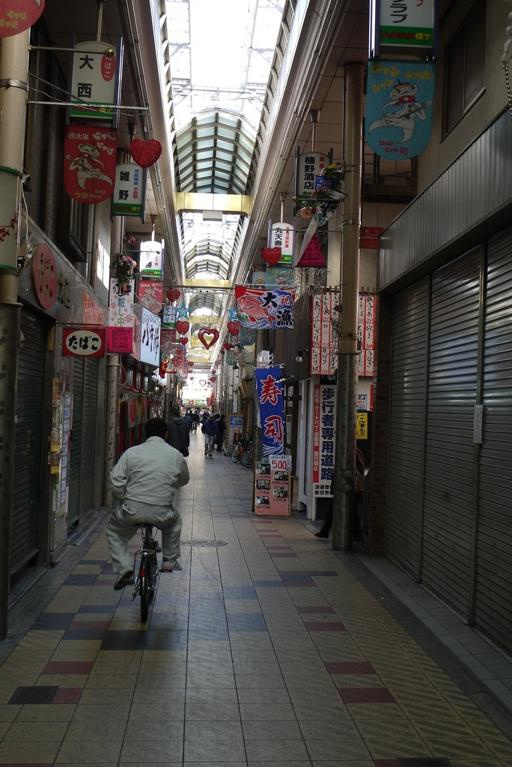non-vehicle: (129, 520, 161, 623), (230, 437, 255, 468)
